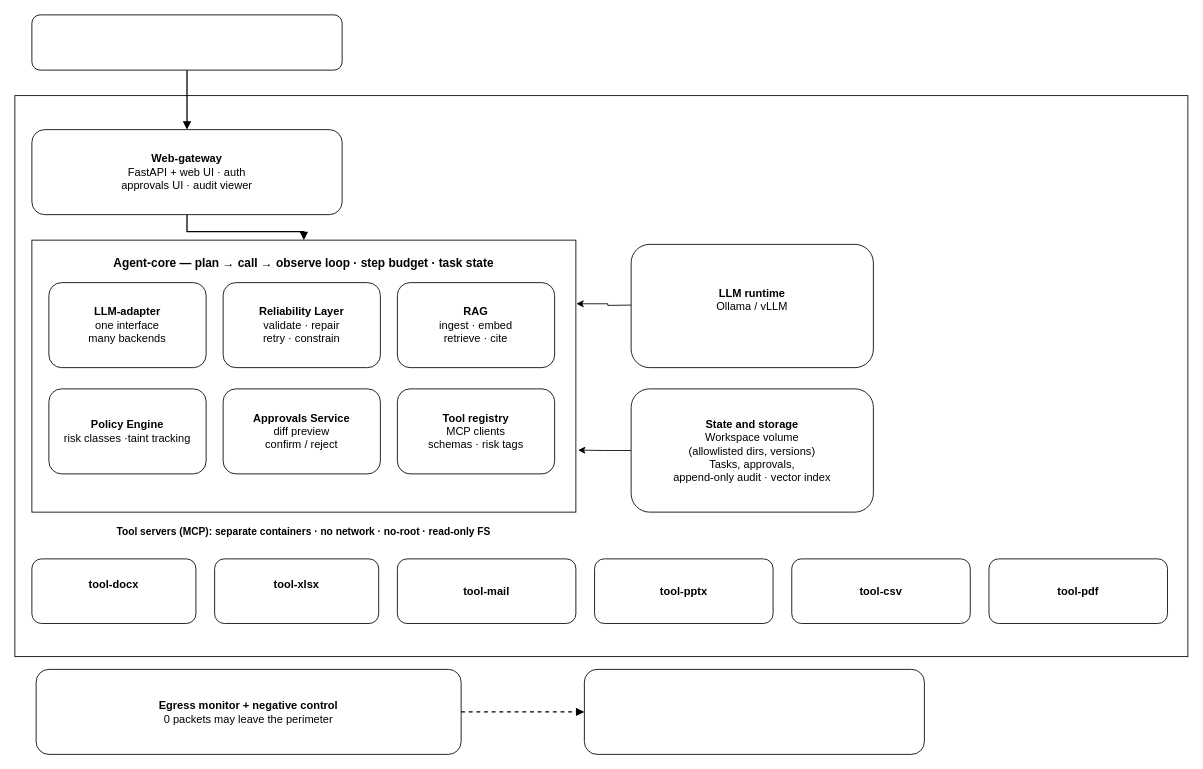
Image size: 1203x769. Some labels were removed from this diagram. The shapes that lost their labels are listed below. From the top down, each one's centre as x and y in pixels, then its label:
the point at 186,42: User browser (local network)
the point at 754,711: Internet / external AI APIs BLOCKED at runtime
